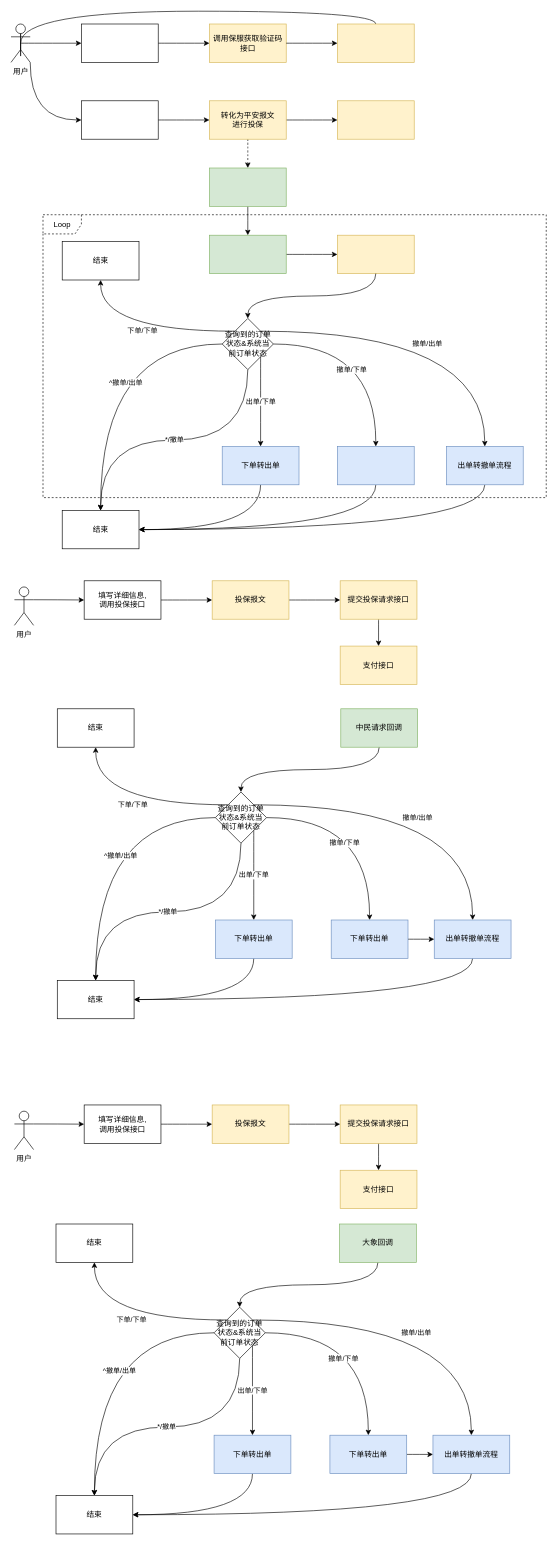
Some shapes in this 558 by 1546 pixel diagram are drawn without their labels. Each missing label, with the centre of its shape:
"下单转撤单" goes at point (375, 465).
"保单保存接口" goes at point (247, 254).
"发起定时任务, 定时获取平安保单" goes at point (247, 186).
"填写详细信息, 调用重疾险领取接口" goes at point (119, 119).
"投保接口" goes at point (375, 119).
"短信校验接口" goes at point (375, 42).
"获取保单接口" goes at point (375, 254).
"获取验证码" goes at point (119, 42).
